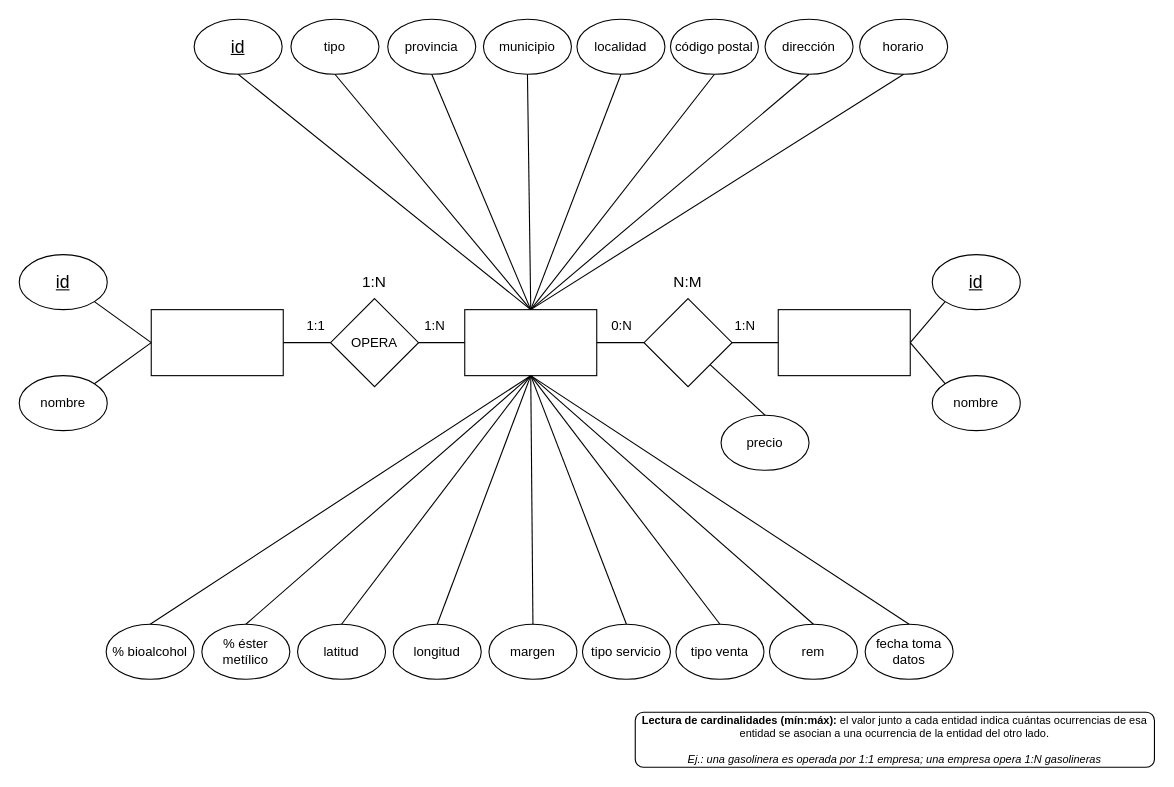
Some shapes in this 1174 by 787 pixel diagram are drawn without their labels. Each missing label, with the centre of its shape:
CARBURANTE: the point at 843,342
EMPRESA: the point at 216,342
GASOLINERA: the point at 530,342
VENDE: the point at 687,342
